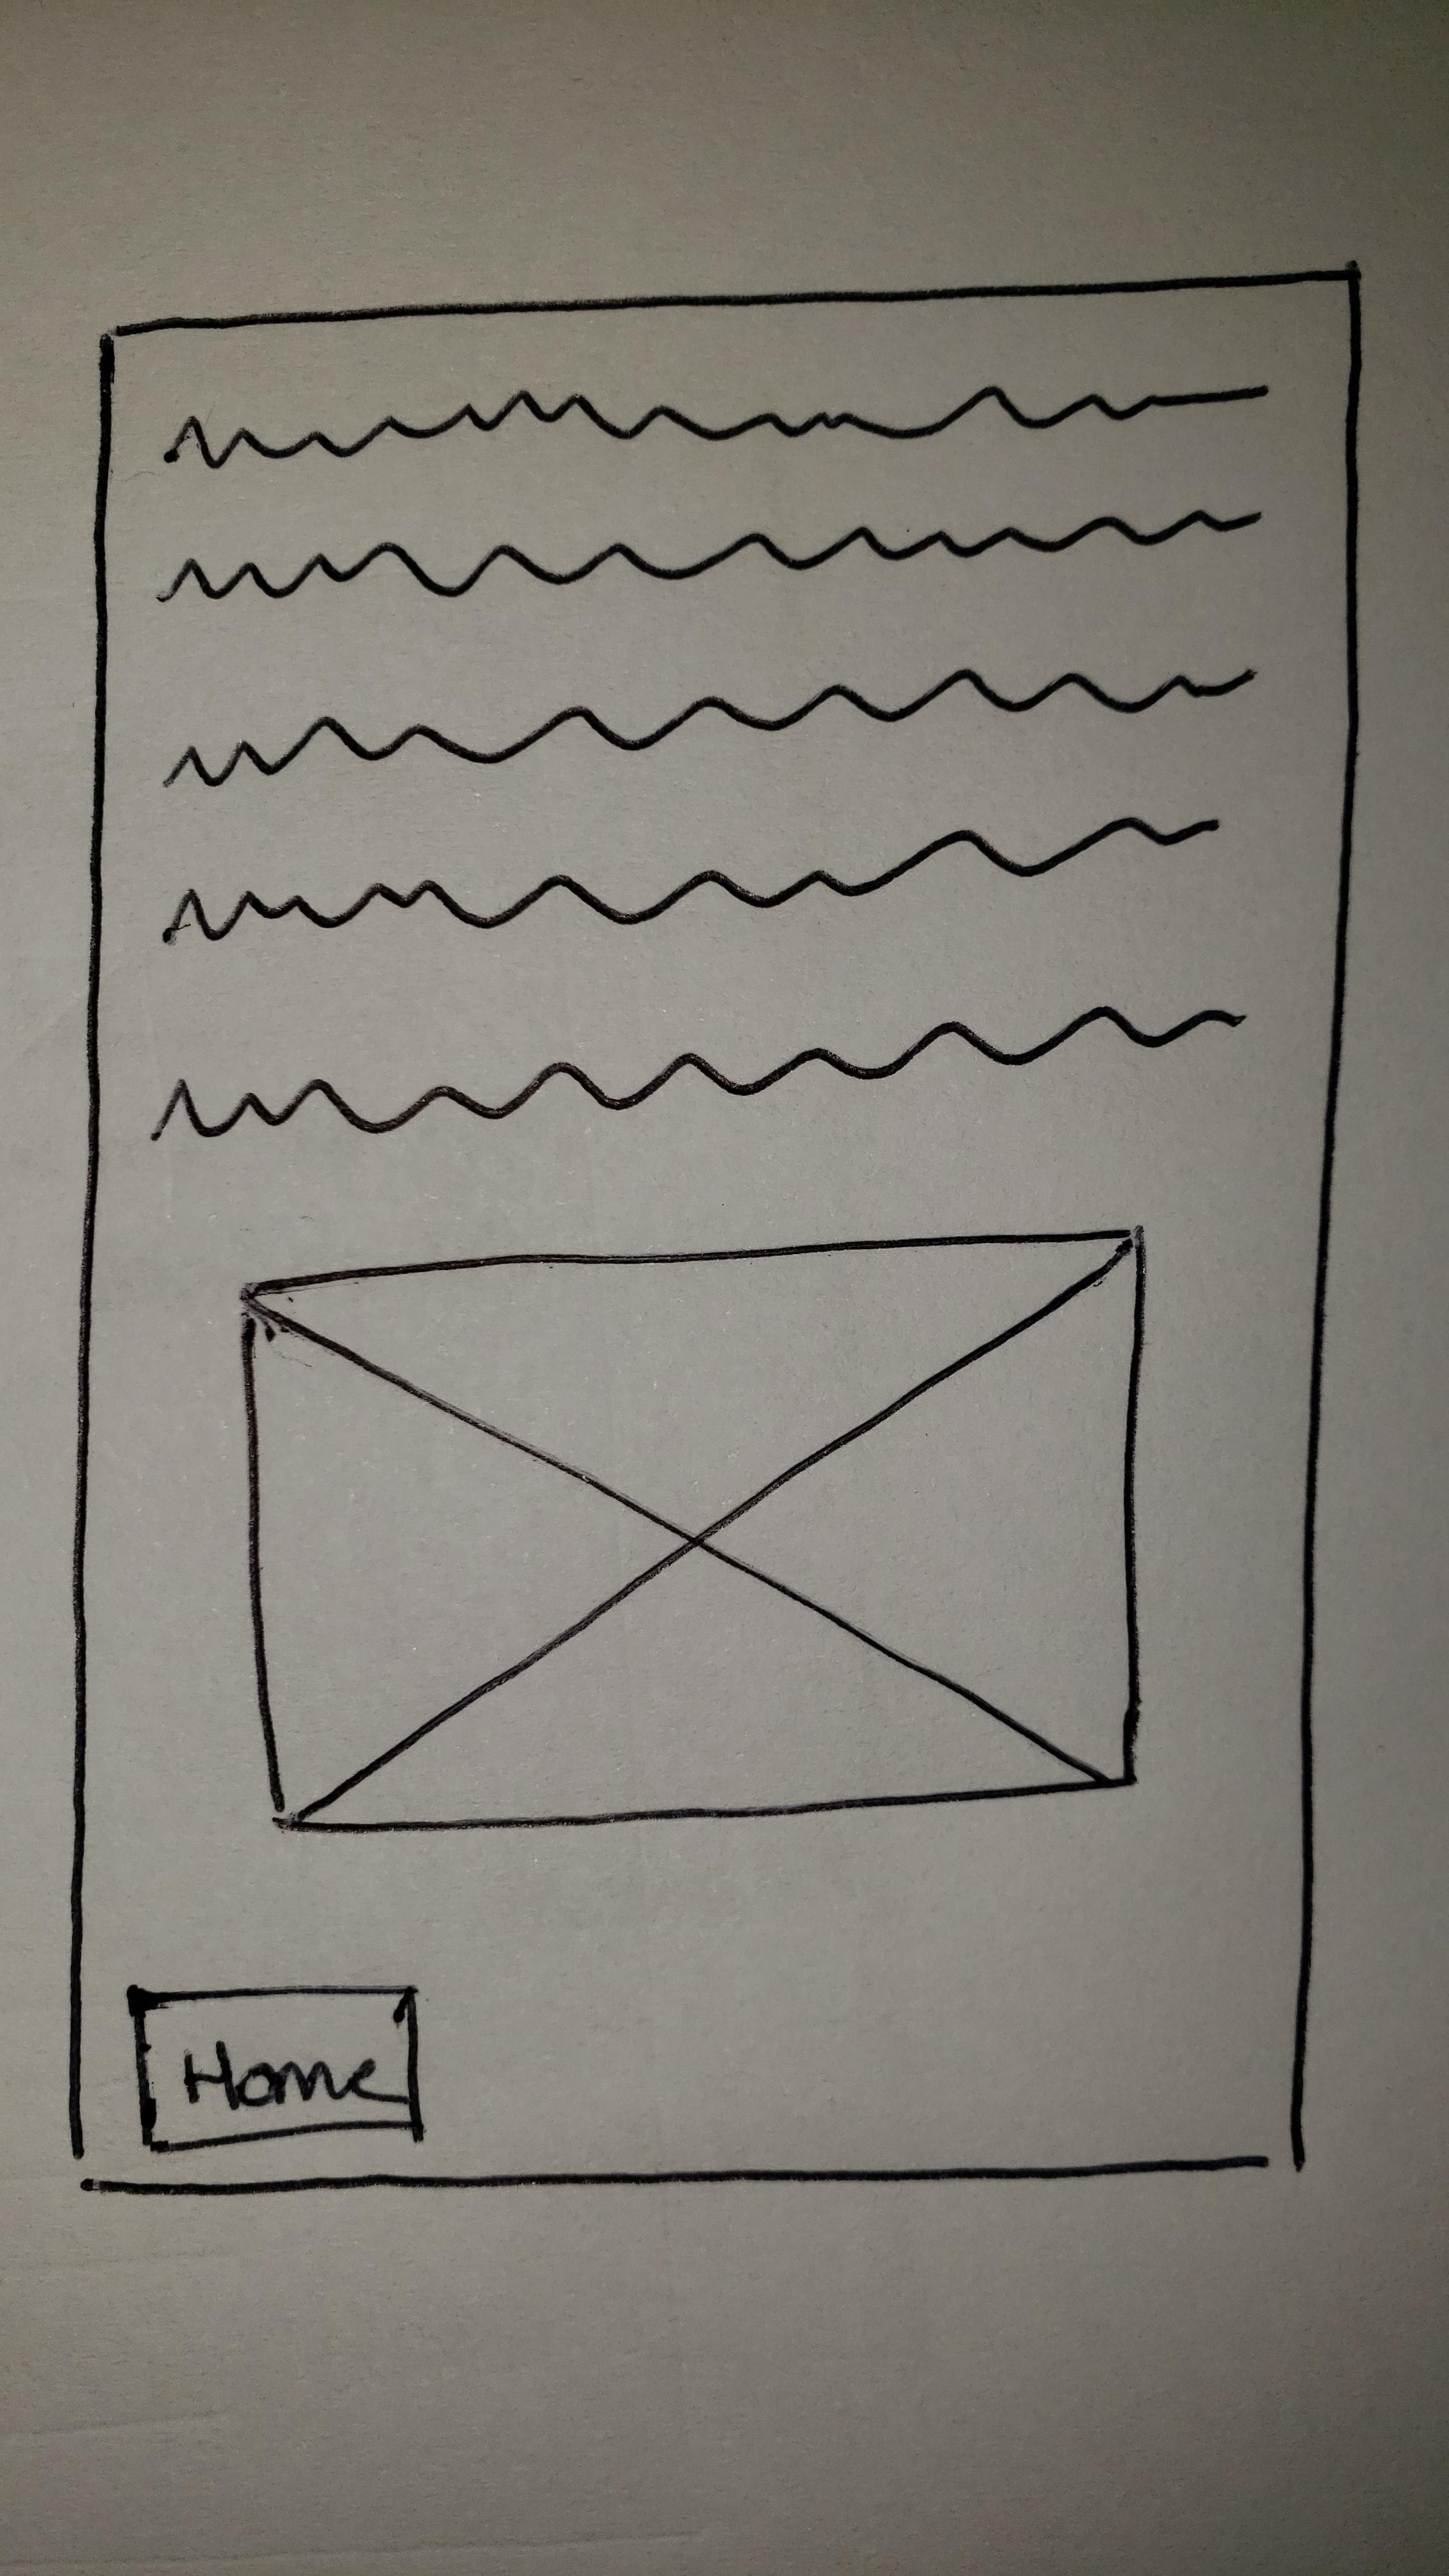Button: (127, 1983, 421, 2155)
Image: (235, 1231, 1146, 1836)
Label: (143, 379, 1272, 1148)
Screen: (71, 269, 1361, 2196)
